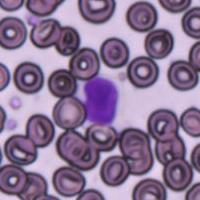L: (82, 73, 123, 127)
